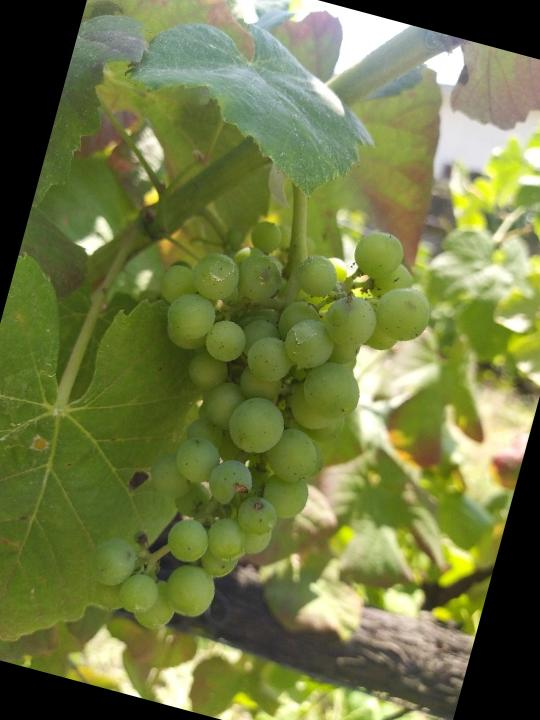grape: (68, 176, 451, 679)
